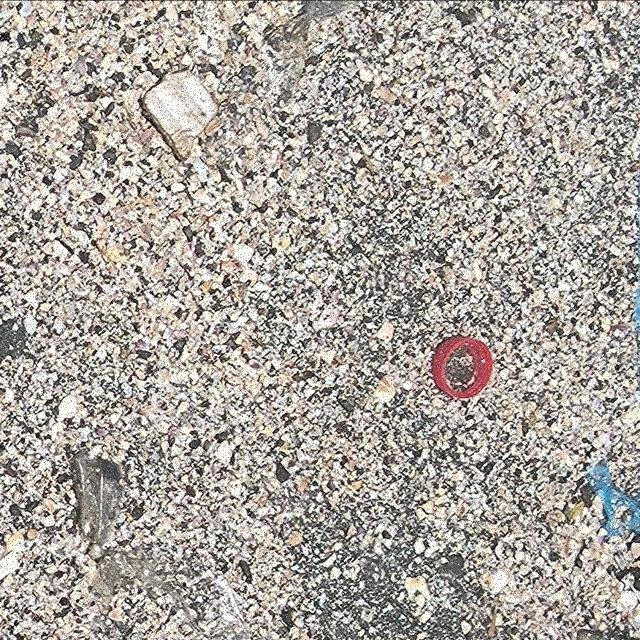plastic_waste: (433, 336, 492, 401)
